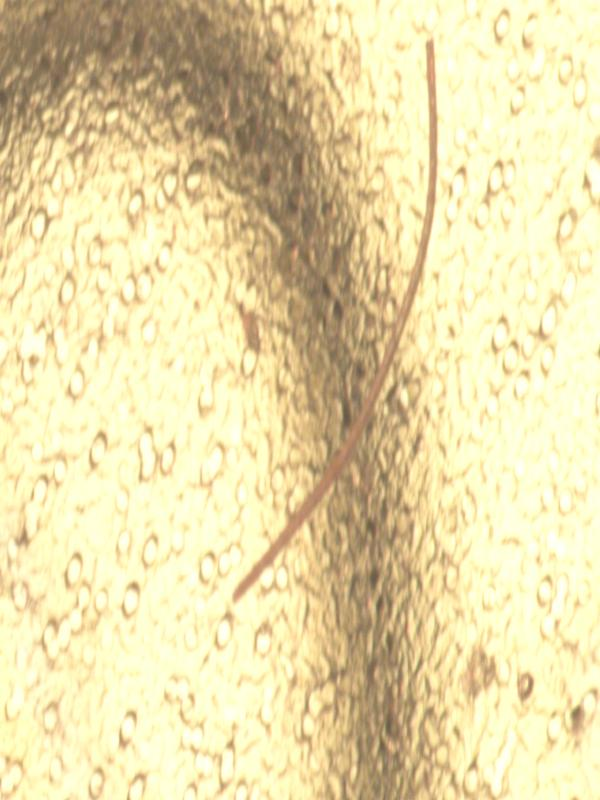microplastic: (2, 3, 599, 799), (231, 38, 440, 611)
